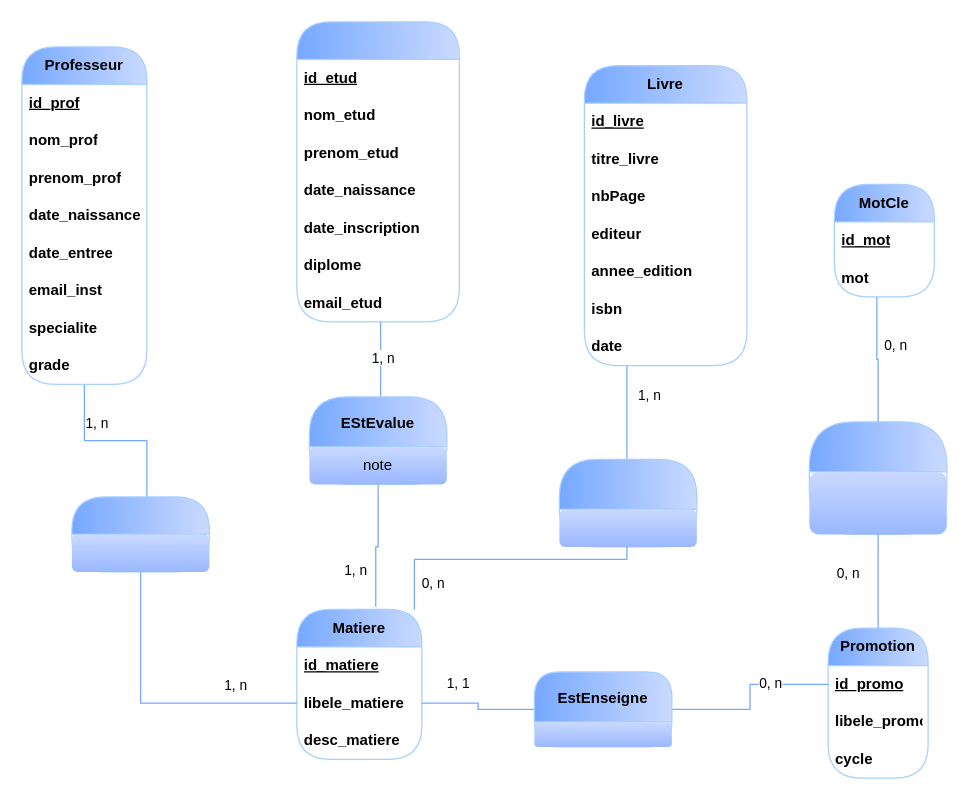
Some shapes in this 969 by 800 pixel diagram are drawn without their labels. The box of each missing label's shape, as (x1, y1, x2, y2) in pixels:
Associe: (808, 421, 947, 534)
Concerne: (558, 458, 697, 547)
Enseigne: (71, 496, 209, 572)
Etudiant: (296, 21, 459, 322)
